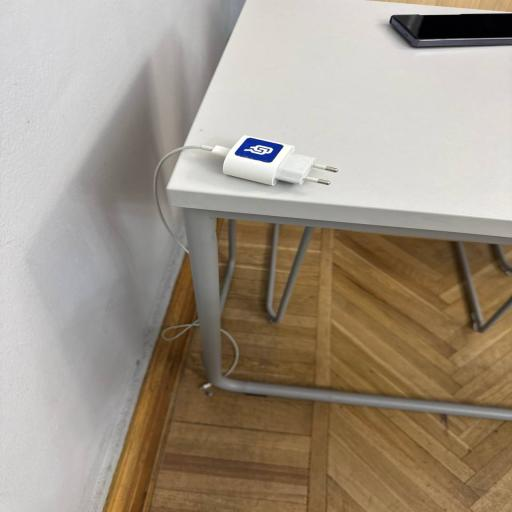curb: (390, 13, 512, 47)
phone: (167, 0, 512, 420)
